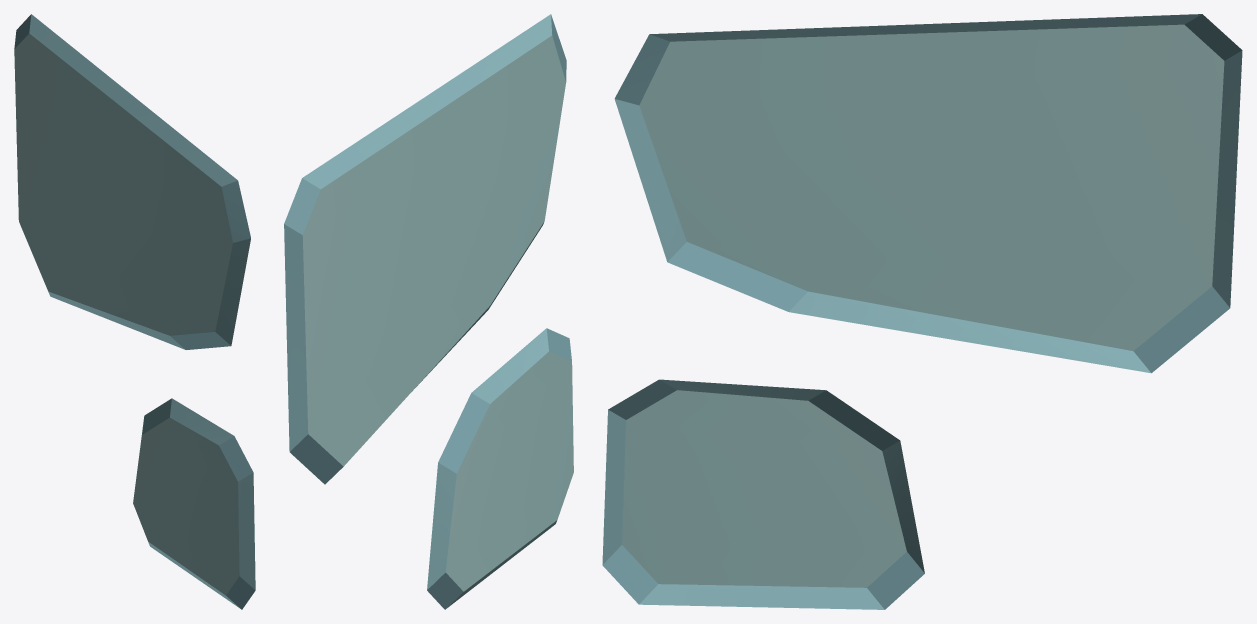
Rendered from Concrete Tile 03.FBX.
The picture shows the model from 3 angles, left to right: view 1: azimuth 30°, elevation 25°; view 2: azimuth 150°, elevation 25°; view 3: azimuth 270°, elevation 25°; orthographic projection. The views are drawn at different scales.
Parts seen in each view (by area): view 1: Concrete Tile 03; view 2: Concrete Tile 03; view 3: Concrete Tile 03.
Boxes of the visible parts, x1,y1,x2,y2 form: Concrete Tile 03: (14,14,255,609); Concrete Tile 03: (284,14,573,609); Concrete Tile 03: (602,14,1242,609).
Size of the model in its own units: 3.07 by 148 by 144.
1 material, 1 textured.
